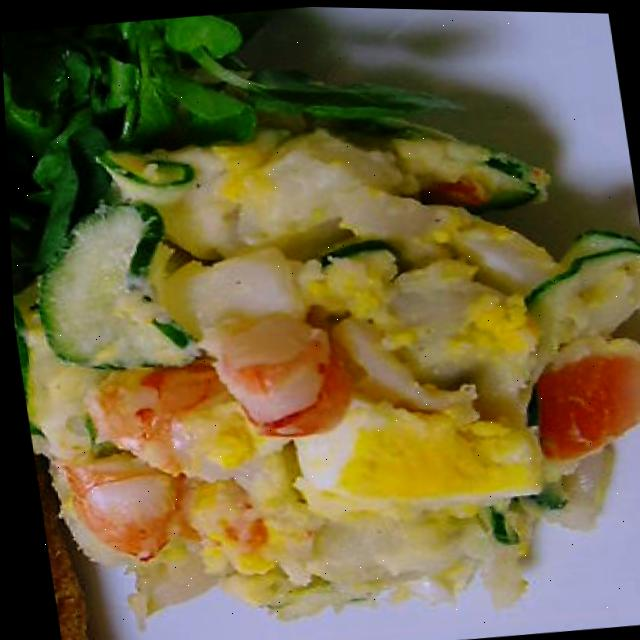蔬菜料理: (2, 60, 640, 640)
